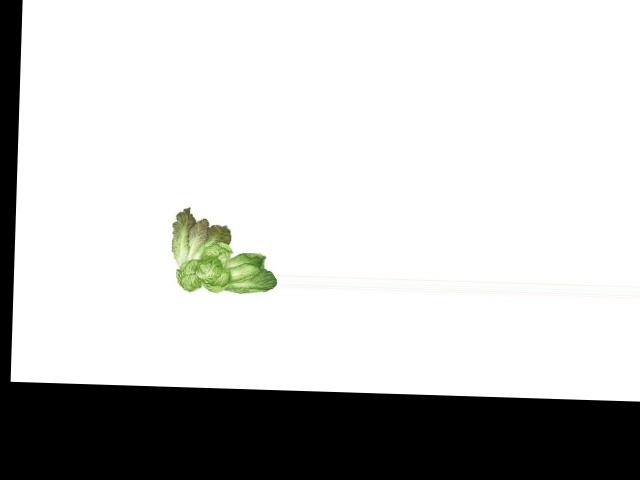lettuce: (168, 201, 280, 300)
